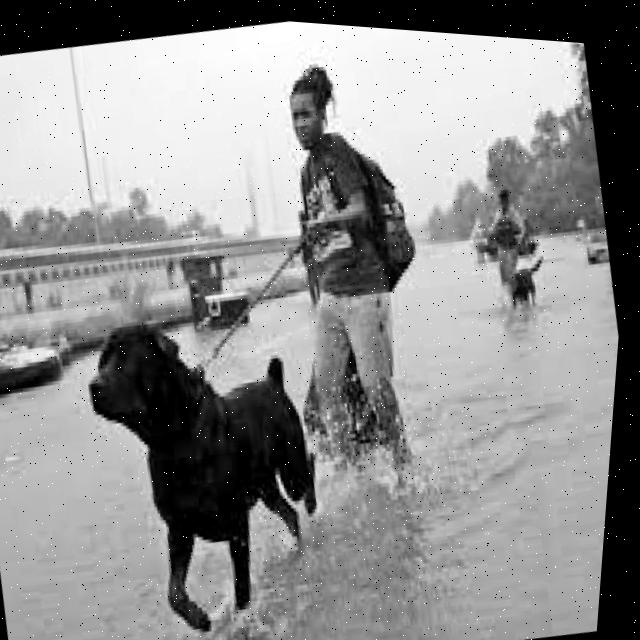civilian: (216, 40, 471, 517), (471, 183, 539, 283), (463, 215, 495, 267)
dog: (57, 282, 366, 640), (488, 249, 565, 313)
